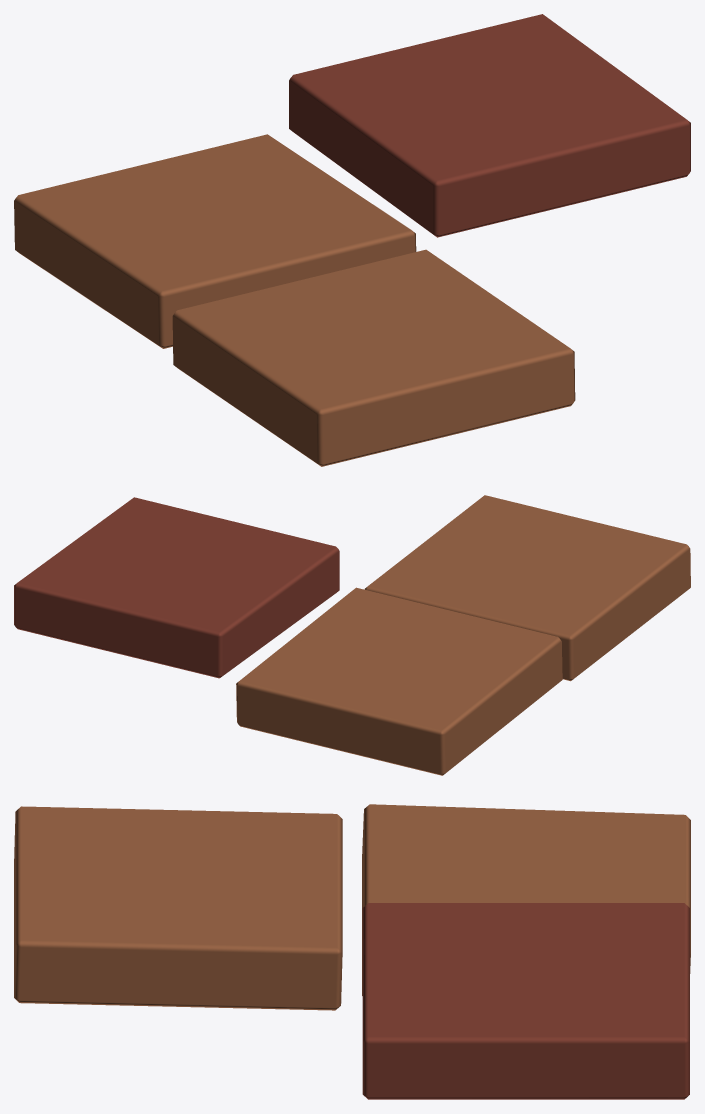
The model's file is stone-halls-tile-broken.bd5d550a.glb.
The picture shows the model from 3 angles, top to bottom: view 1: azimuth 30°, elevation 25°; view 2: azimuth 150°, elevation 25°; view 3: azimuth 270°, elevation 25°; orthographic projection. The views are drawn at different scales.
Visible parts, largest first — view 1: body; view 2: body; view 3: body.
Part boxes in pixels (box(x1,y1,x2,y2)): body: box(14, 14, 690, 466); body: box(14, 495, 690, 775); body: box(14, 804, 690, 1099).
Bounding box in the file's own units: 0.97 × 0.1934 × 0.9724.
